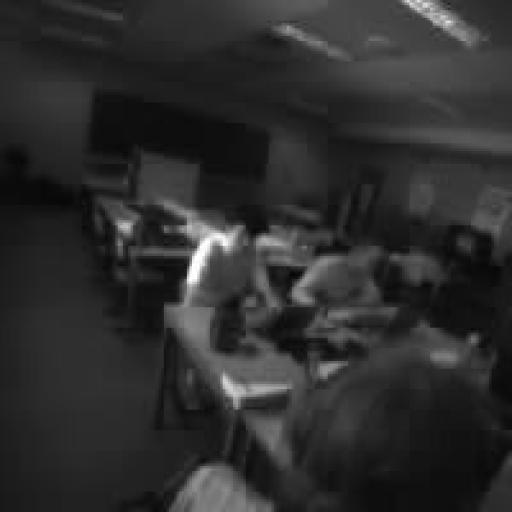human: (172, 346, 504, 511), (182, 205, 281, 314), (290, 246, 383, 307)
